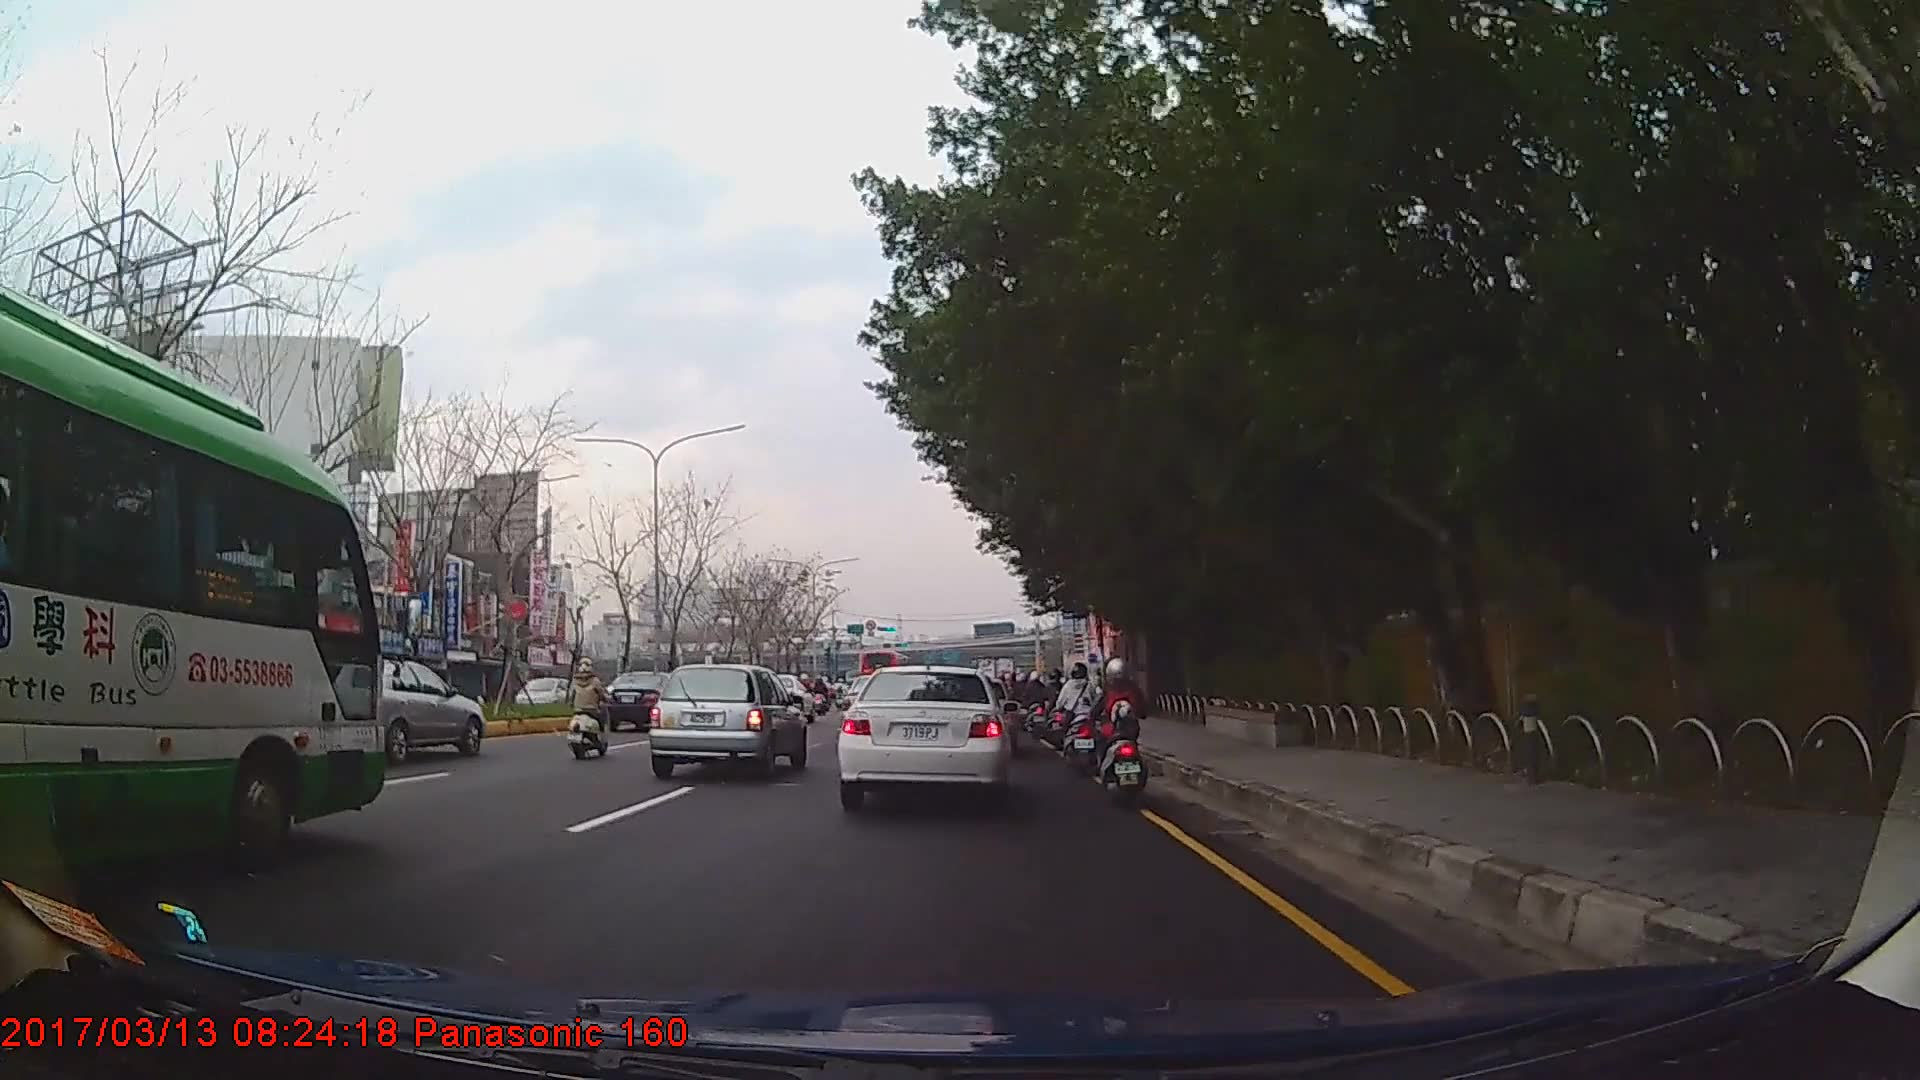rider: (1090, 656, 1153, 814), (1059, 663, 1104, 774), (571, 663, 615, 763), (1044, 669, 1069, 748)
vehicle: (0, 279, 390, 889), (833, 663, 1012, 813), (650, 663, 808, 781), (333, 657, 485, 760), (601, 666, 691, 731), (858, 648, 911, 695)
